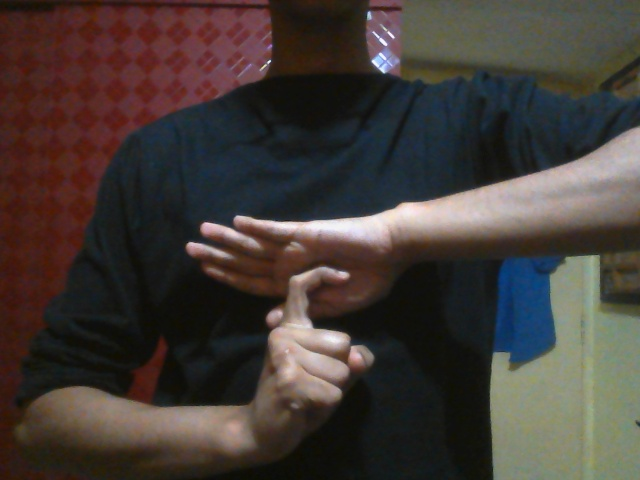R: (187, 205, 422, 452)
